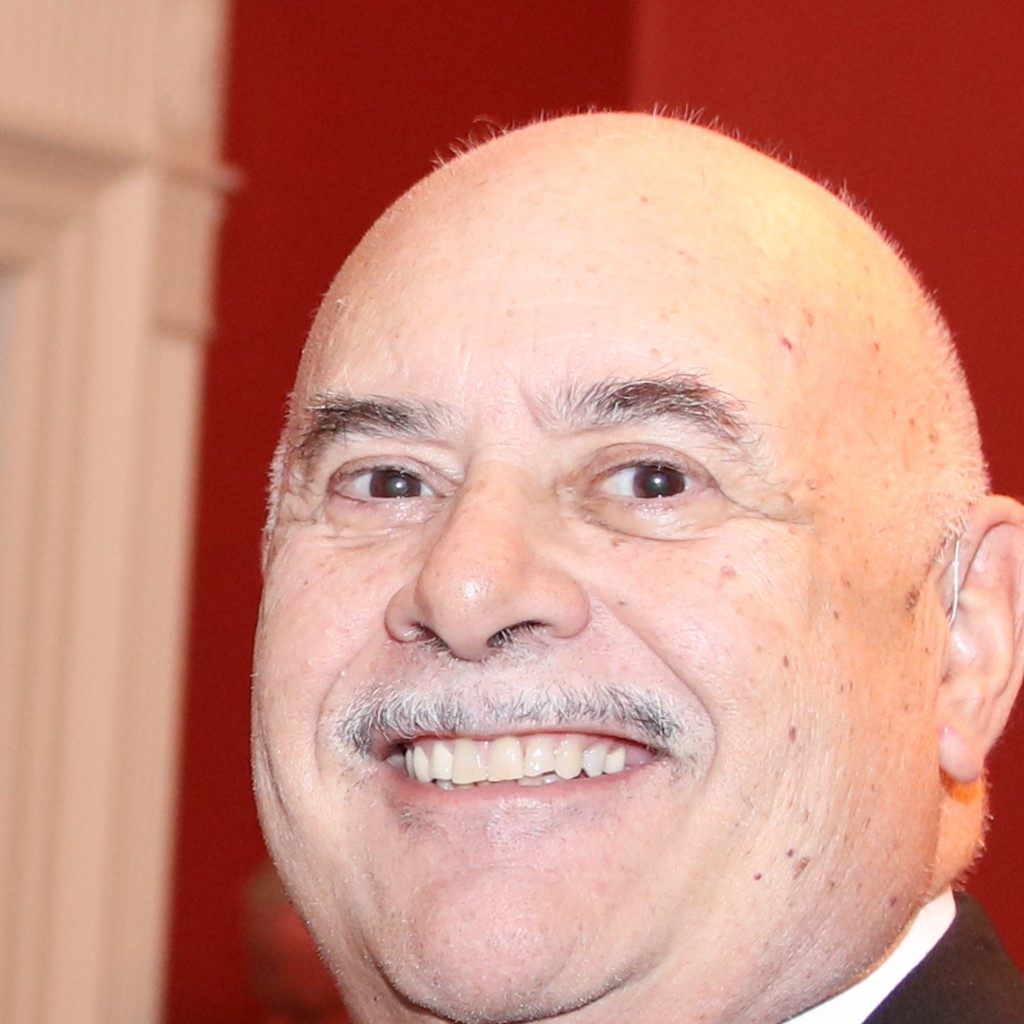sin_mascara: (266, 146, 875, 1005)
